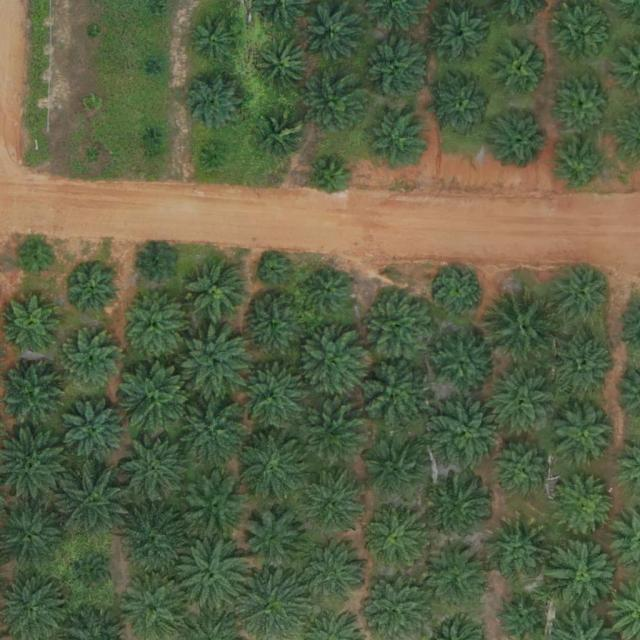Healthy: (56, 465, 134, 544), (119, 359, 197, 438), (116, 502, 194, 581), (171, 390, 249, 469), (177, 534, 255, 613), (236, 429, 314, 508), (361, 287, 439, 366), (354, 356, 432, 435), (429, 396, 507, 475), (486, 287, 564, 366), (483, 364, 561, 443), (547, 537, 625, 616), (234, 361, 312, 439), (179, 327, 250, 398), (239, 507, 310, 578), (301, 541, 372, 612), (61, 397, 131, 468), (180, 472, 250, 543), (297, 329, 367, 400), (298, 399, 368, 470), (179, 68, 249, 138), (118, 433, 188, 503), (554, 74, 617, 137), (490, 519, 553, 582), (305, 74, 367, 137), (364, 39, 426, 102), (367, 108, 429, 171), (490, 108, 553, 170), (59, 331, 121, 394), (124, 294, 186, 357), (186, 261, 248, 324), (242, 295, 304, 358), (366, 441, 428, 504), (367, 504, 429, 567), (432, 332, 495, 394), (434, 476, 496, 539), (426, 542, 488, 605), (551, 264, 613, 327), (433, 76, 495, 138), (554, 337, 616, 399), (554, 404, 616, 466), (555, 477, 617, 539), (431, 9, 486, 64), (257, 40, 312, 95), (495, 41, 550, 96), (554, 139, 609, 194), (6, 296, 61, 351), (68, 264, 123, 319), (306, 476, 361, 531), (556, 9, 610, 64), (307, 10, 361, 65), (496, 446, 550, 501), (437, 267, 484, 315), (261, 114, 308, 161), (306, 269, 353, 316)
Small: (191, 12, 246, 68), (310, 159, 350, 199), (137, 245, 177, 285), (74, 556, 114, 595), (19, 241, 58, 280), (260, 256, 291, 287), (204, 144, 228, 168), (84, 96, 100, 112), (148, 4, 163, 20), (87, 26, 102, 42), (86, 149, 102, 164), (144, 129, 160, 144), (149, 60, 164, 75)
